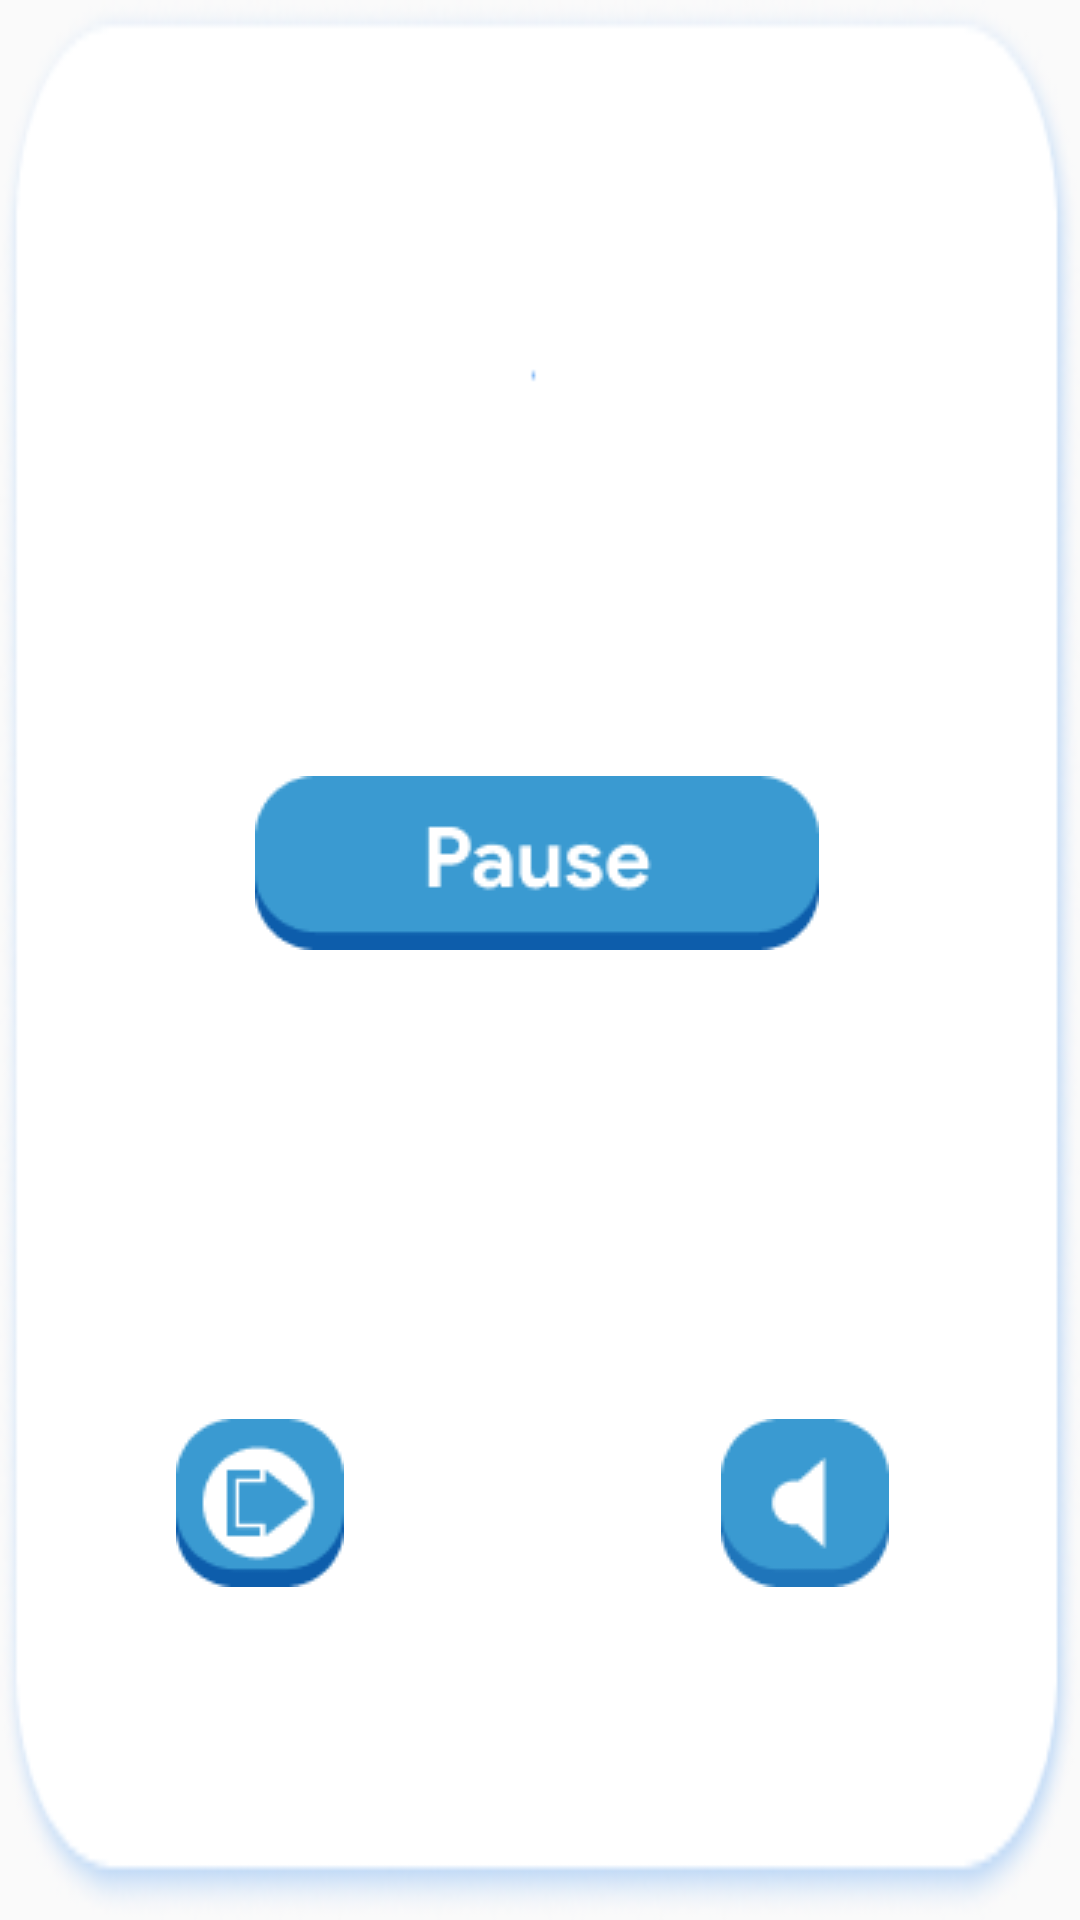

Named icons in this screenshot (1080 x 1920) and their bounding boxes, (x1, y1, x2, y2):
sound: (721, 1419, 889, 1587)
